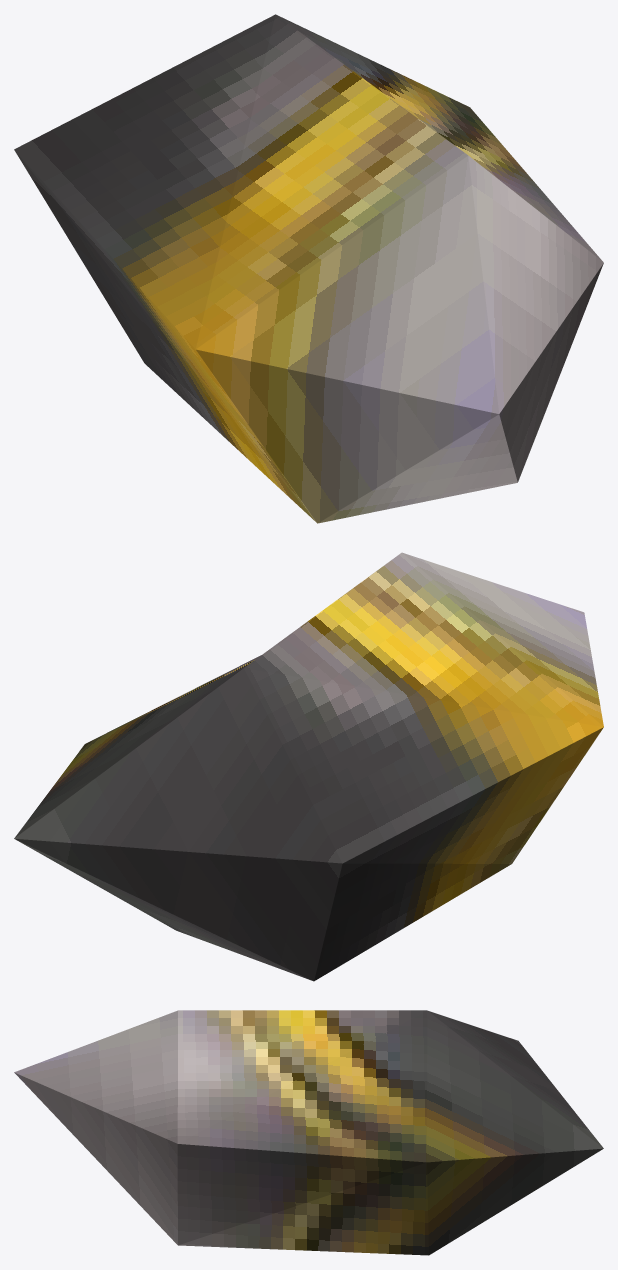
The model's file is EventBloodCastle03.glb.
3 renders of one model, top to bottom at view 1: azimuth 30°, elevation 25°; view 2: azimuth 150°, elevation 25°; view 3: azimuth 270°, elevation 25°, orthographic. The views are drawn at different scales.
Parts seen in each view (by area): view 1: model_EventBloodCastle03; view 2: model_EventBloodCastle03; view 3: model_EventBloodCastle03.
Boxes of the visible parts, x1=… form: model_EventBloodCastle03: x1=14, y1=14, x2=603, y2=523; model_EventBloodCastle03: x1=14, y1=552, x2=603, y2=981; model_EventBloodCastle03: x1=14, y1=1010, x2=603, y2=1255.
Size of the model in its own units: 0.4389 by 0.3135 by 0.7639.
Materials: 1 (1 with a texture image).
